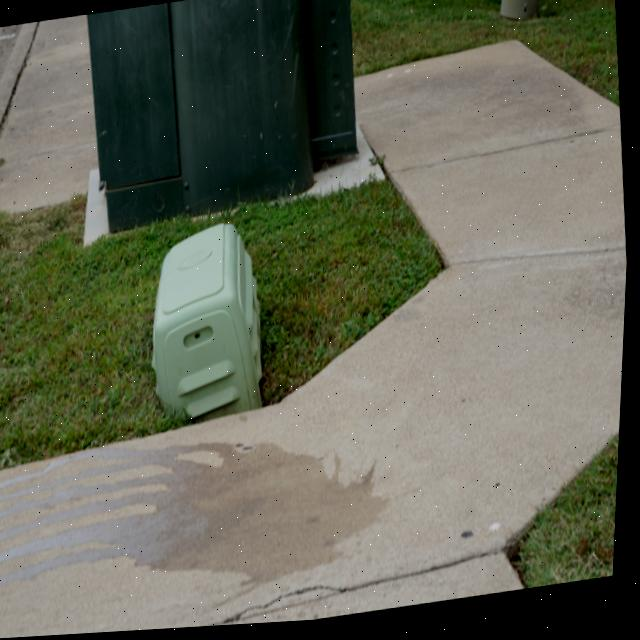Obstacle: (88, 0, 357, 233), (156, 226, 265, 420), (500, 0, 540, 27)
Sidewalk: (0, 48, 629, 639), (0, 15, 99, 211)
